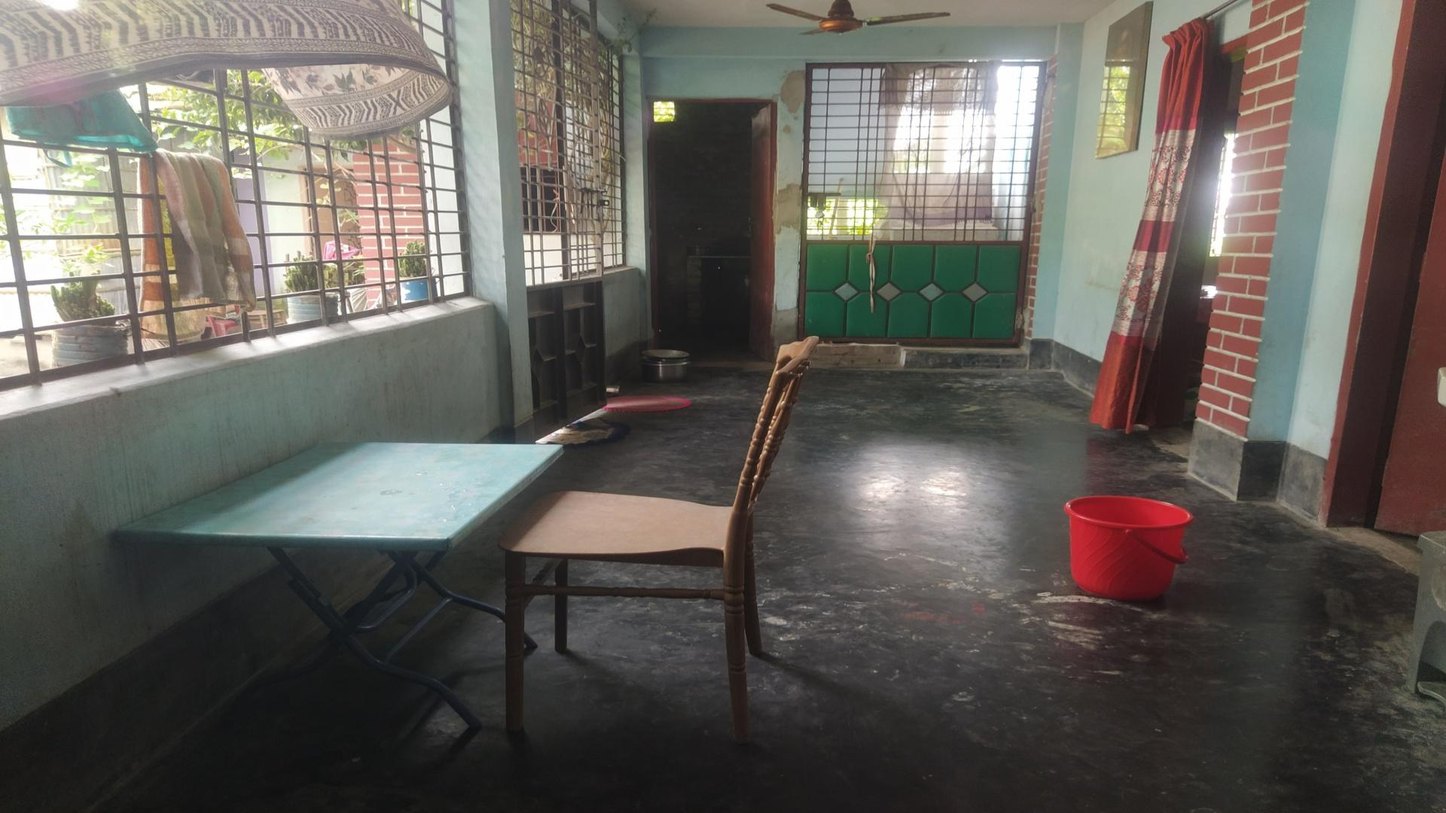Bucket: (1059, 486, 1189, 601)
Chair: (504, 342, 817, 737)
Door: (799, 58, 1036, 353), (643, 102, 773, 364)
Table: (111, 452, 560, 727)
